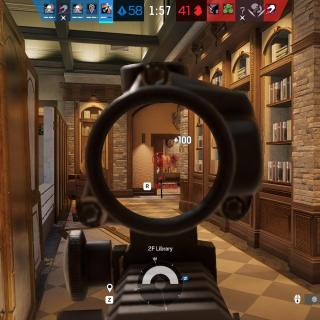Character: (156, 152, 161, 186)
